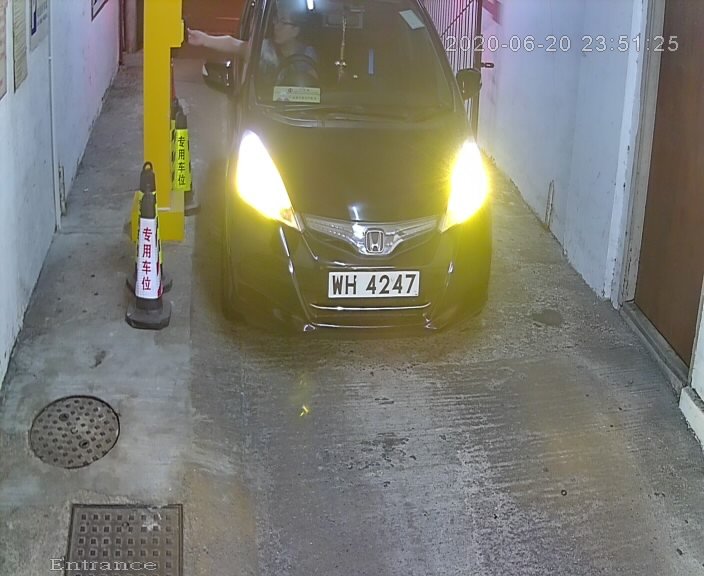privatecar: (193, 1, 521, 368)
